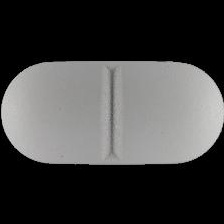43598-220: (0, 0, 224, 224)
